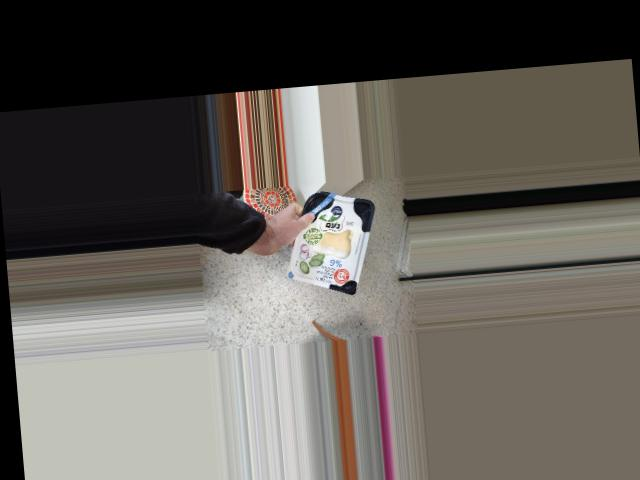cheese: (282, 186, 382, 300)
